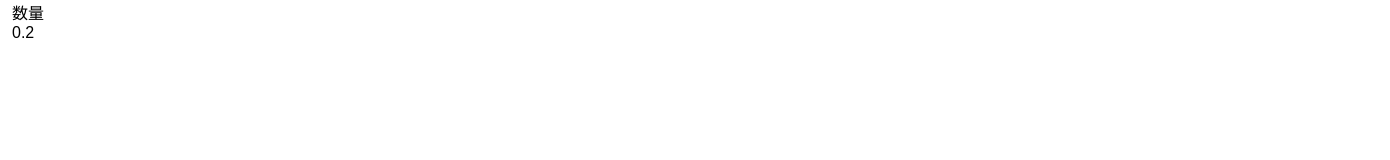
NumberField › steps by decimals without float noise
Click the field labelled "数量" at point(695, 33), box x1=12 y1=24 x2=1378 y2=42
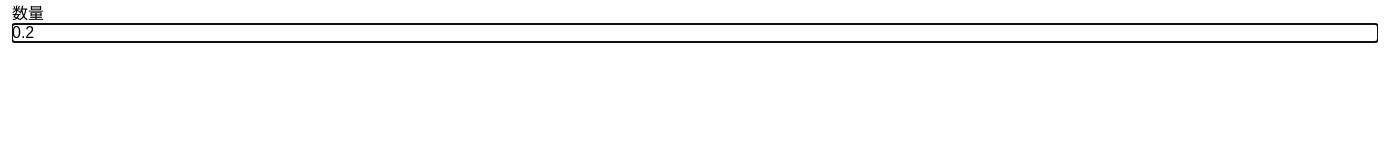
Press Arrowup
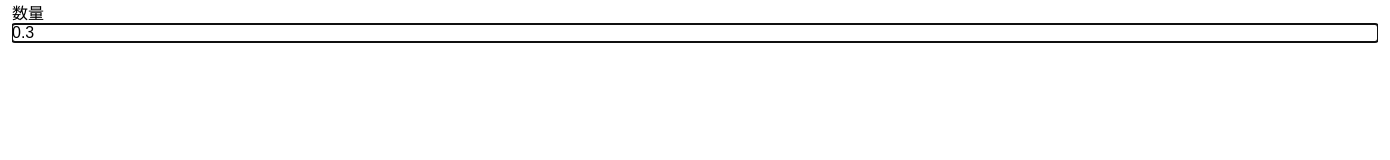
Check: the field labelled "数量" holds "0.3", box x1=12 y1=24 x2=1378 y2=42
